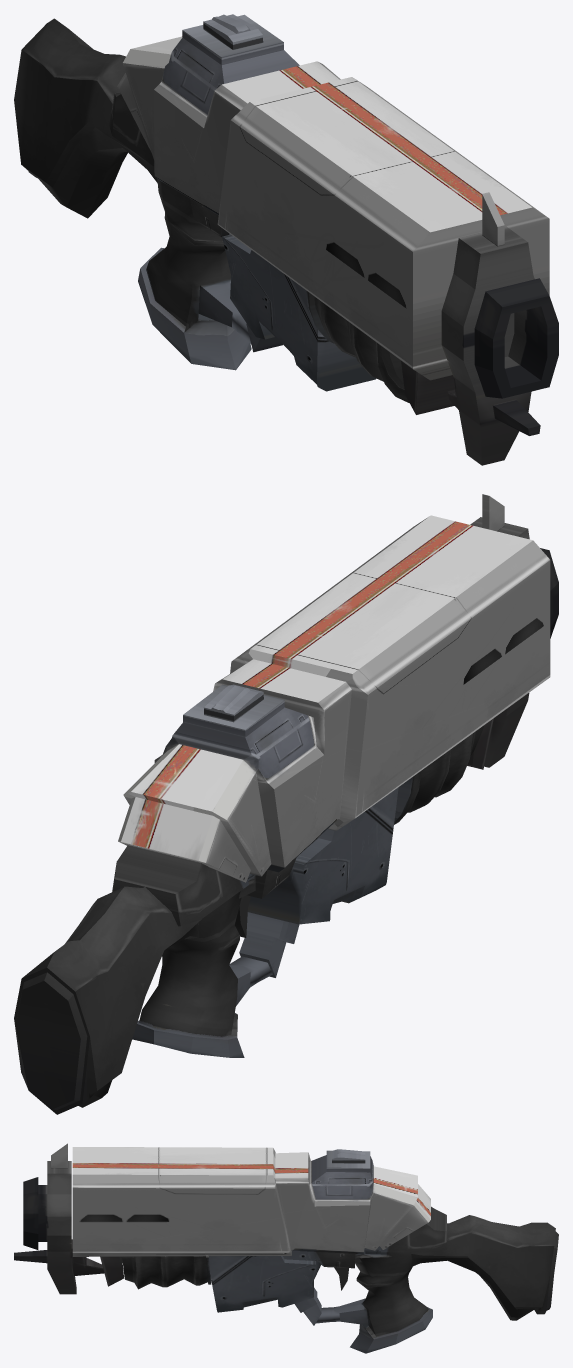
File: Weapon.fbx
3 renders of one model, top to bottom at view 1: azimuth 30°, elevation 25°; view 2: azimuth 150°, elevation 25°; view 3: azimuth 270°, elevation 25°, orthographic. The views are drawn at different scales.
Visible parts, largest first — view 1: pistoler2; view 2: pistoler2; view 3: pistoler2.
Part boxes in pixels (left/top/right/bottom): pistoler2: left=14, top=14, right=558, bottom=465; pistoler2: left=14, top=494, right=558, bottom=1114; pistoler2: left=14, top=1143, right=558, bottom=1353.
Size of the model in its own units: 38.38 by 97.56 by 238.
